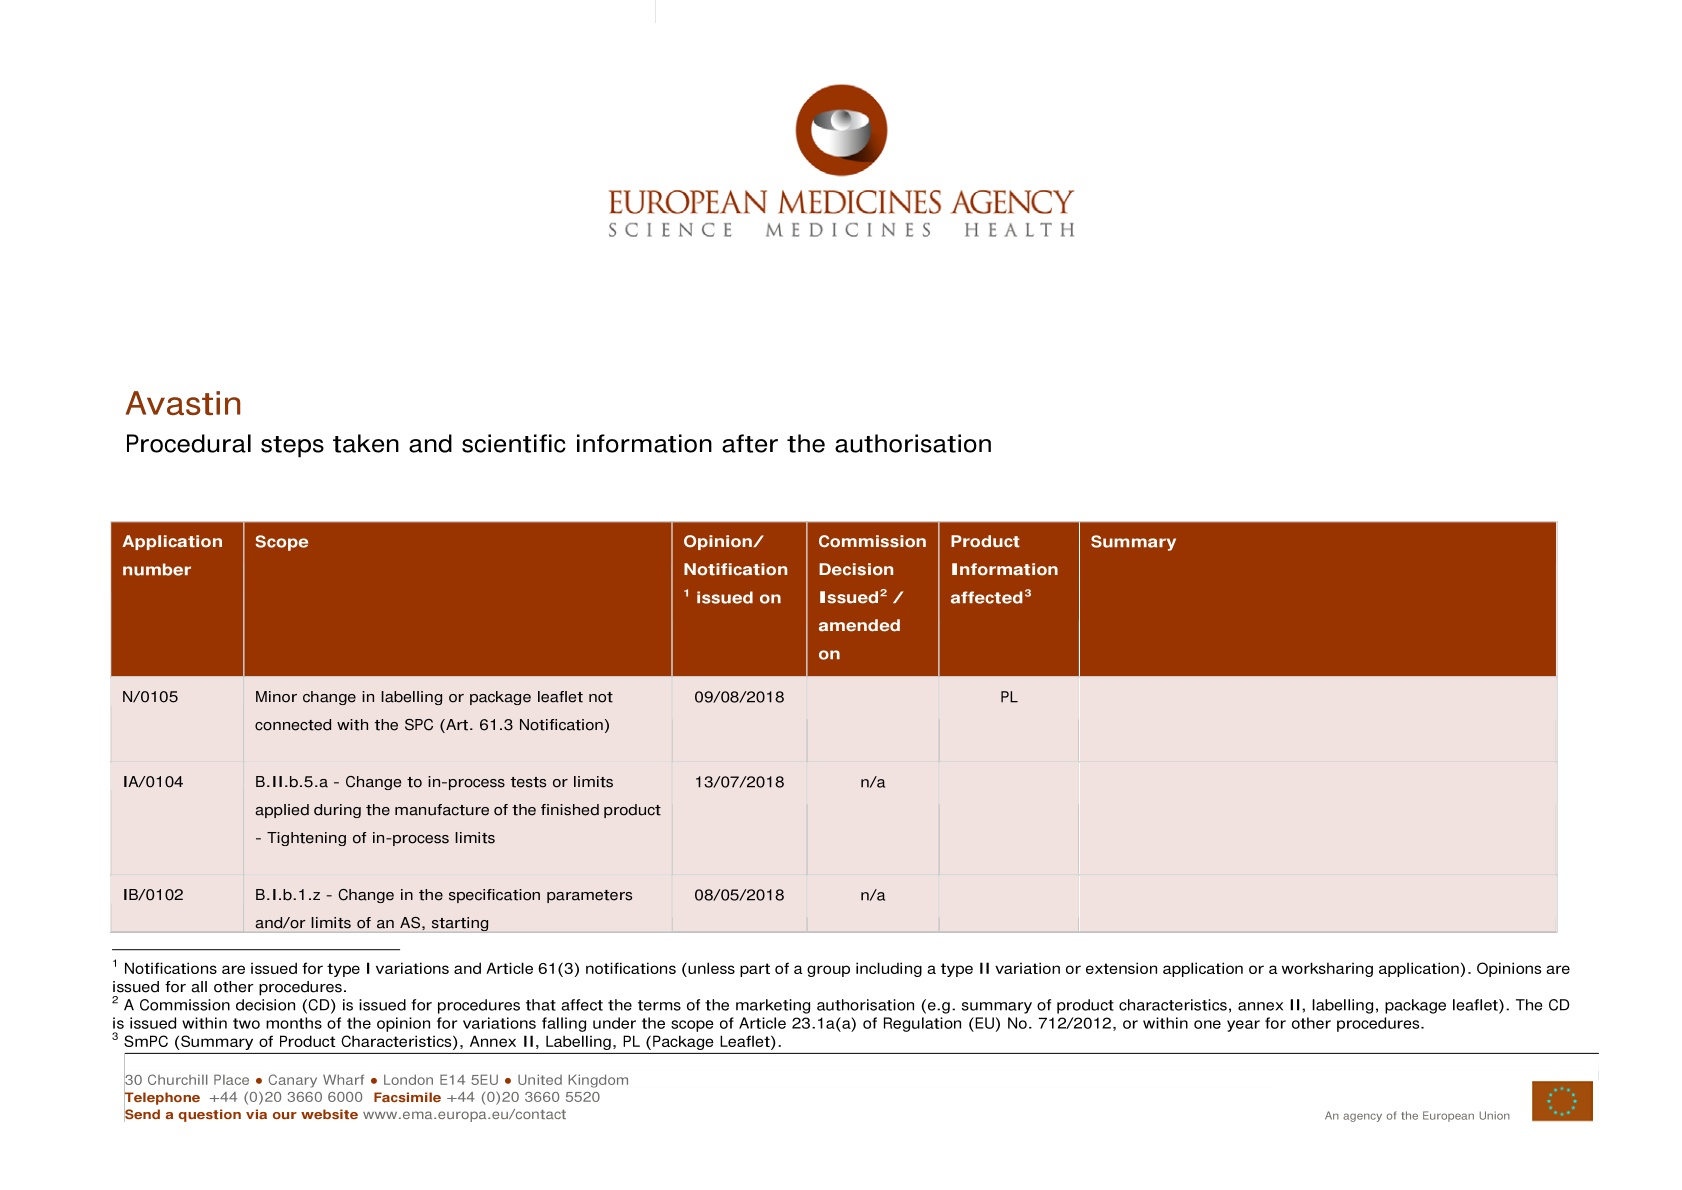full_lined: (98, 513, 1585, 947)
